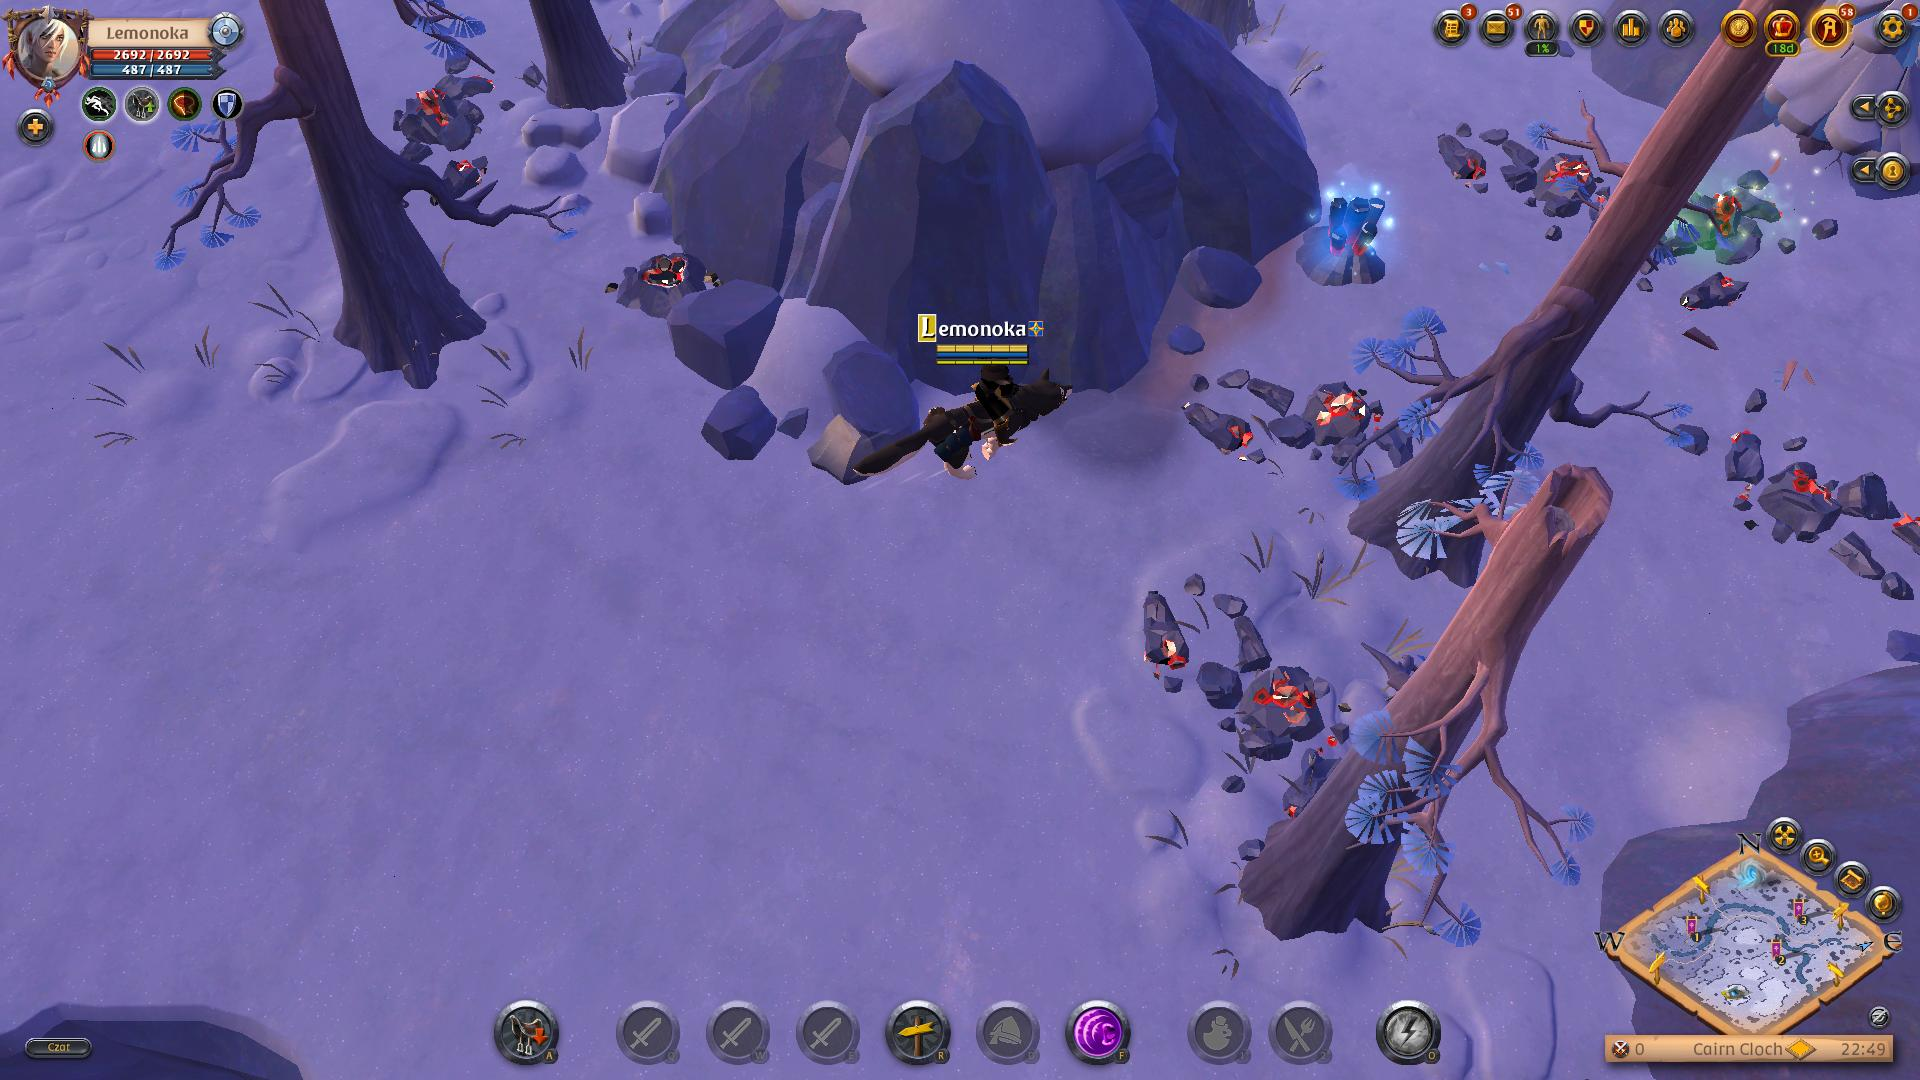ore tier 5: (1296, 190, 1387, 289)
